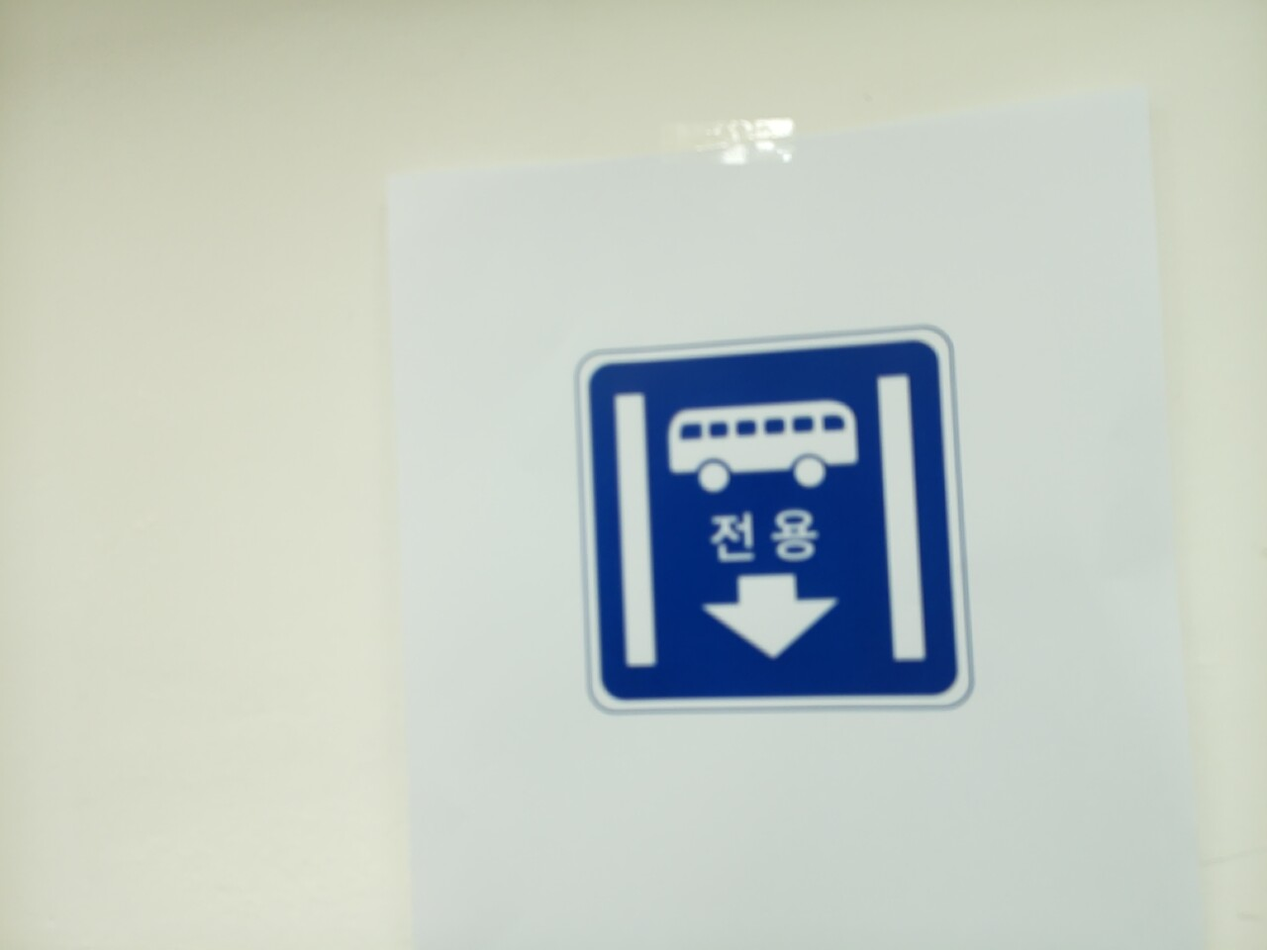bus_only_lane: (577, 330, 969, 712)
